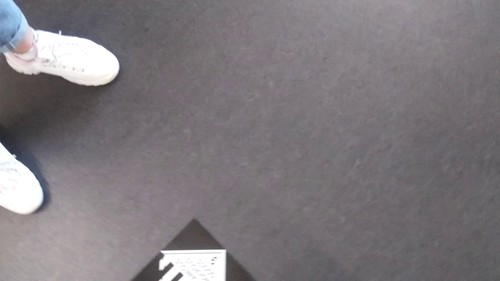misgoods: (156, 243, 238, 281)
